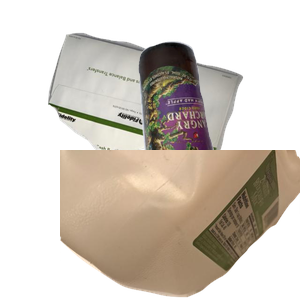glass: (136, 39, 300, 219)
paper: (45, 30, 281, 195)
plastic: (60, 150, 300, 300)
trash: (74, 167, 235, 300)
